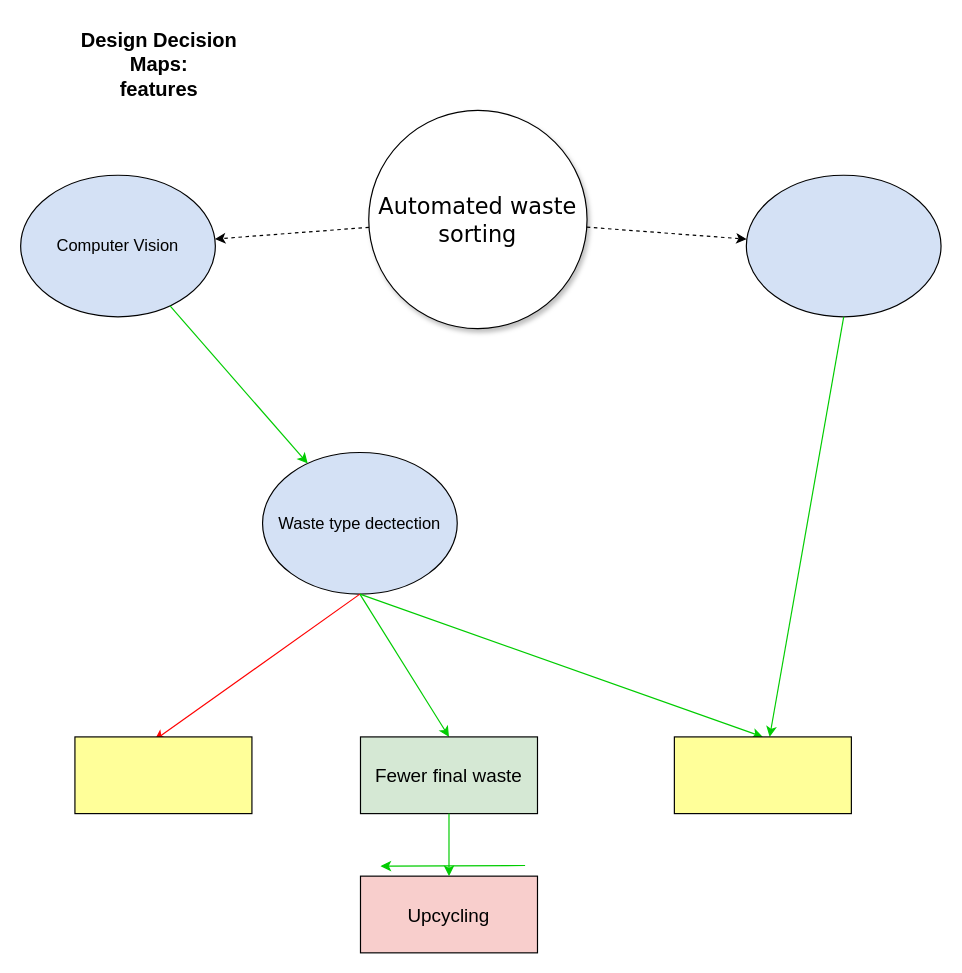
Some shapes in this 962 by 973 pixel diagram are drawn without their labels. Each missing label, with the centre of its shape:
Improvement of work quality: [762,775]
jobs losses: [163,775]
Robotics Arms: [843,245]
